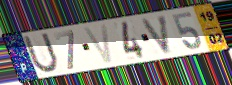4: (120, 20, 146, 60)
5: (170, 10, 203, 51)
7: (52, 29, 76, 70)
U: (21, 32, 61, 76)
V: (82, 23, 115, 66), (139, 13, 172, 56)
